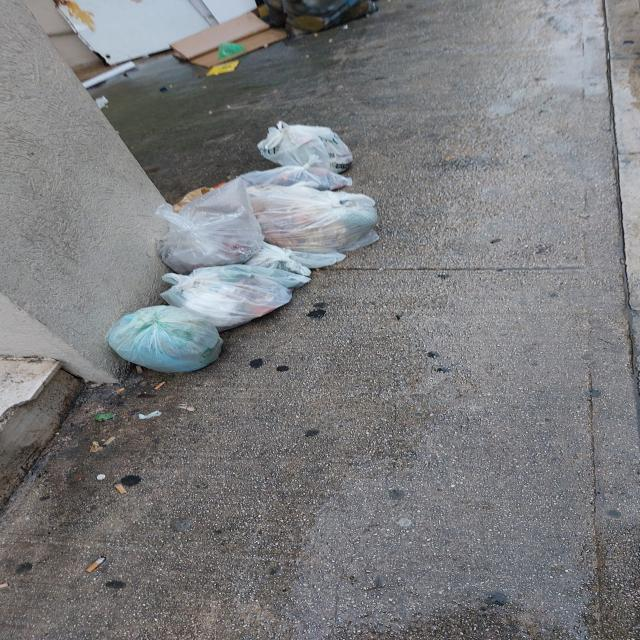Mixed Waste -Black Bag-: (275, 1, 390, 36)
Organic Waste -White Bag-: (153, 266, 310, 334), (145, 177, 259, 263), (247, 190, 391, 255), (107, 304, 222, 378), (254, 122, 360, 168), (238, 160, 355, 192), (245, 244, 360, 275)
Other: (154, 11, 292, 68), (205, 60, 246, 78), (211, 42, 251, 59)
